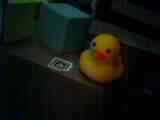duck: (71, 30, 125, 85)
